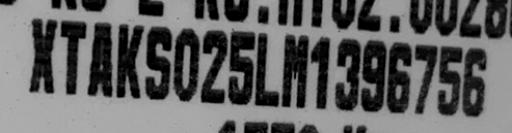letter: (58, 17, 88, 100), (278, 32, 310, 109), (28, 15, 58, 96), (198, 26, 228, 105), (144, 24, 174, 101), (86, 18, 114, 99), (460, 45, 490, 118), (114, 22, 142, 99), (172, 25, 200, 102), (227, 29, 255, 106), (359, 36, 387, 113), (253, 32, 281, 107), (333, 36, 361, 111), (410, 43, 438, 118), (385, 40, 413, 113), (436, 44, 462, 117), (310, 36, 330, 109)
